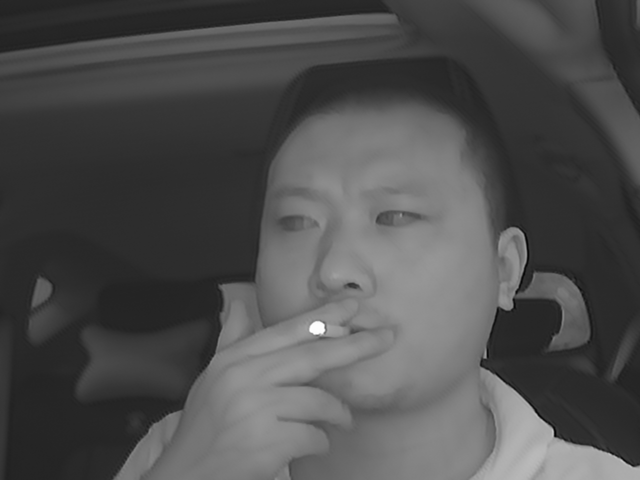hand: (211, 289, 389, 468)
